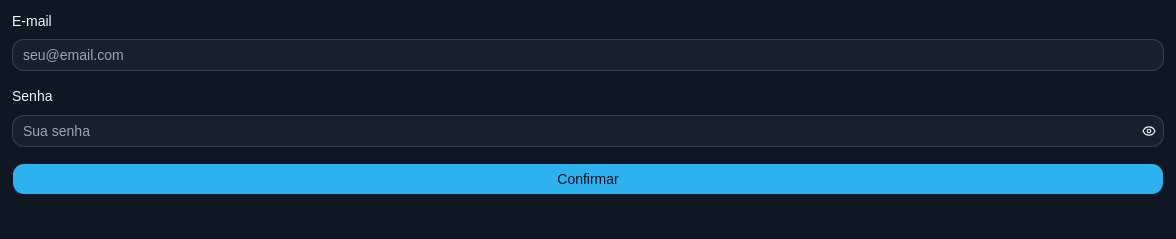
Test: SignInForm › deve exibir erro específico no campo quando a senha está vazia
Type "maria.oliveira@example.com" into the field labelled "E-mail" at (588, 55), box [12,39,1164,71]
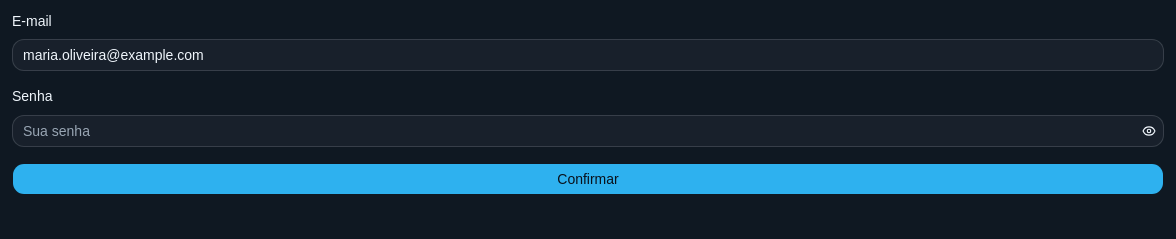
Click the button "Confirmar" at (588, 178), box [12,162,1164,194]
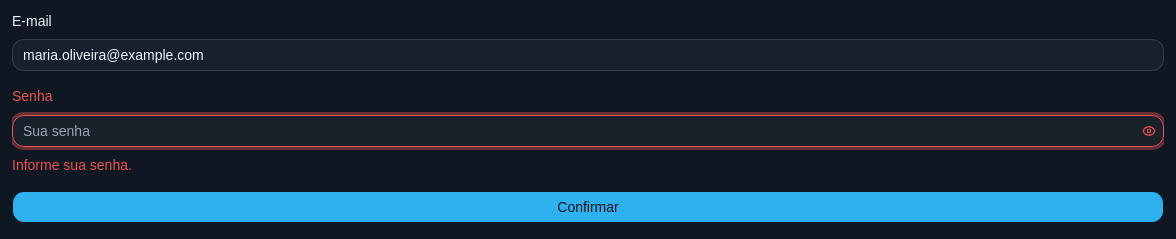
Expected: the text "Informe sua senha." is shown, [12,156,132,172]
